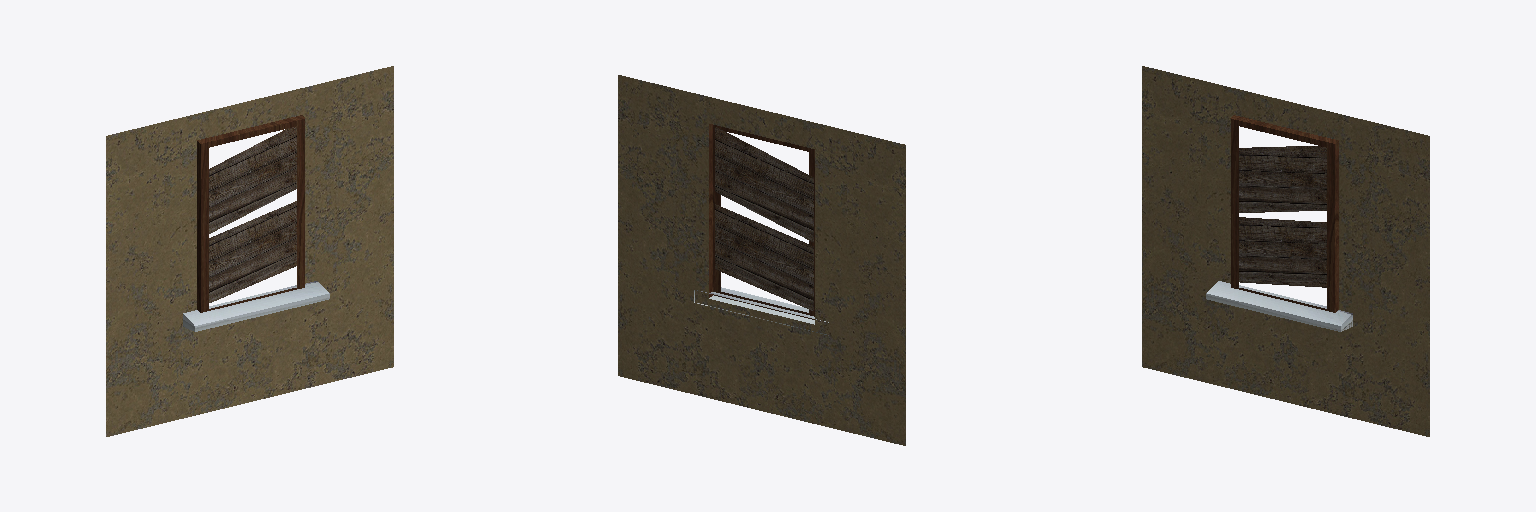
3 views of the same model, side by side, from view 1: azimuth 30°, elevation 25°; view 2: azimuth 150°, elevation 25°; view 3: azimuth 330°, elevation 25° (orthographic).
Visible parts, largest first — view 1: polySurface41; view 2: polySurface41; view 3: polySurface41.
Boxes of the visible parts, x1,y1,x2,y2 form: polySurface41: [106, 66, 393, 436]; polySurface41: [618, 75, 905, 445]; polySurface41: [1142, 66, 1429, 436].
Bounding box in the file's own units: 1 × 1 × 0.0785.
Materials: 1 (1 with a texture image).